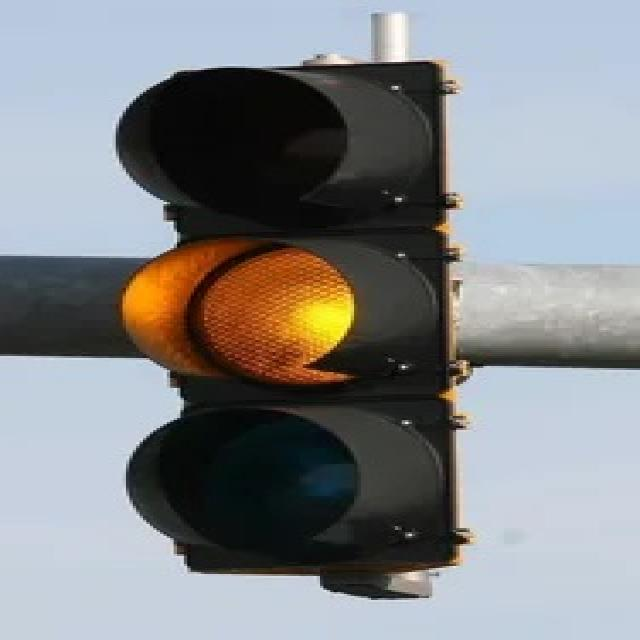sari: (118, 62, 457, 571)
